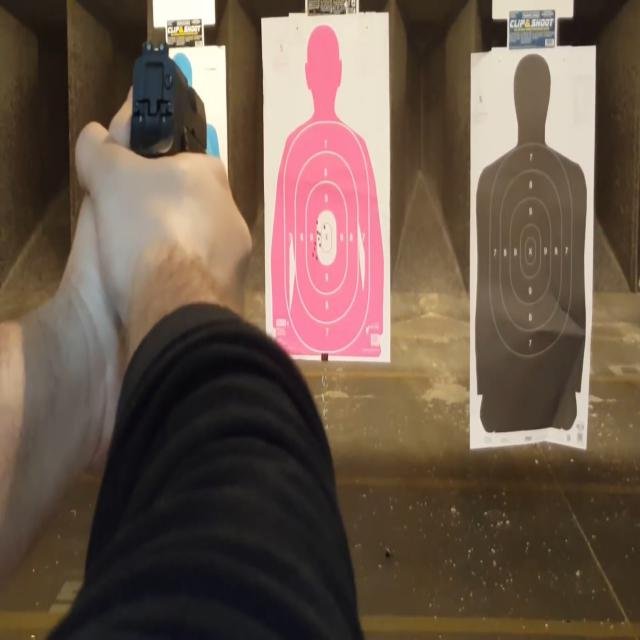handgun: (117, 46, 226, 226)
